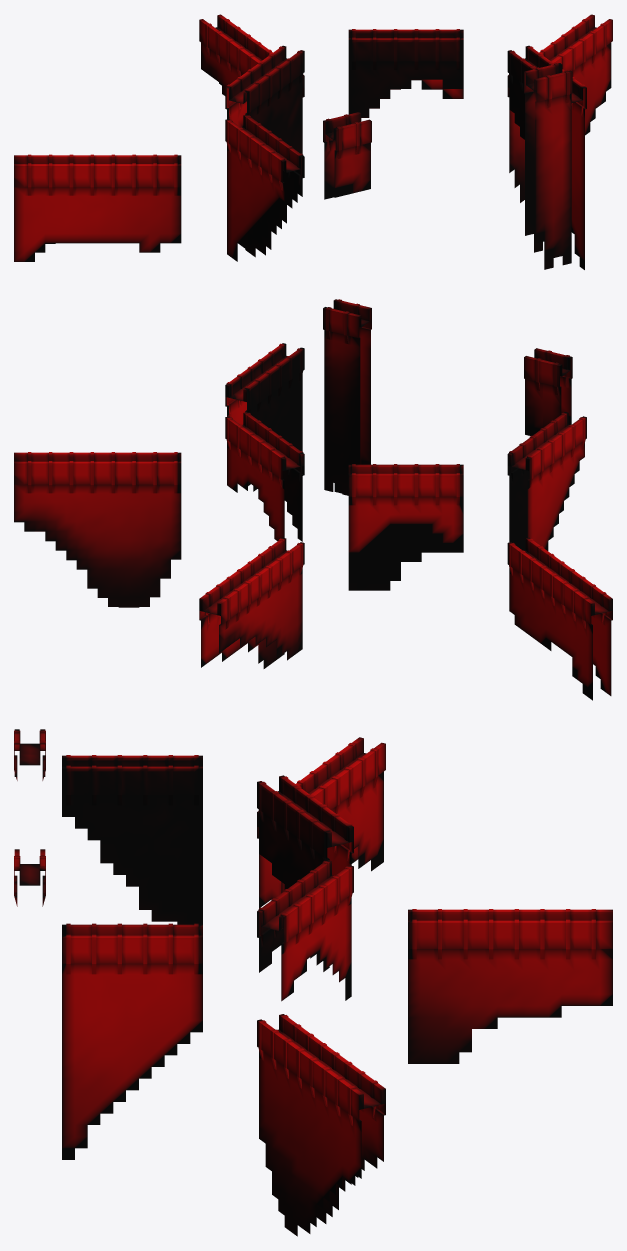
Rendered from TowersOuter_Bridges_export.obj.
3 renders of one model, top to bottom at view 1: azimuth 30°, elevation 25°; view 2: azimuth 150°, elevation 25°; view 3: azimuth 270°, elevation 25°, orthographic. The views are drawn at different scales.
Parts seen in each view (by area): view 1: TowersOuter_Bridges; view 2: TowersOuter_Bridges; view 3: TowersOuter_Bridges.
Boxes of the visible parts, x1,y1,x2,y2 form: TowersOuter_Bridges: [14, 14, 612, 269]; TowersOuter_Bridges: [14, 299, 612, 700]; TowersOuter_Bridges: [14, 729, 612, 1236].
Bounding box in the file's own units: 66.15 × 26.3 × 46.75.
